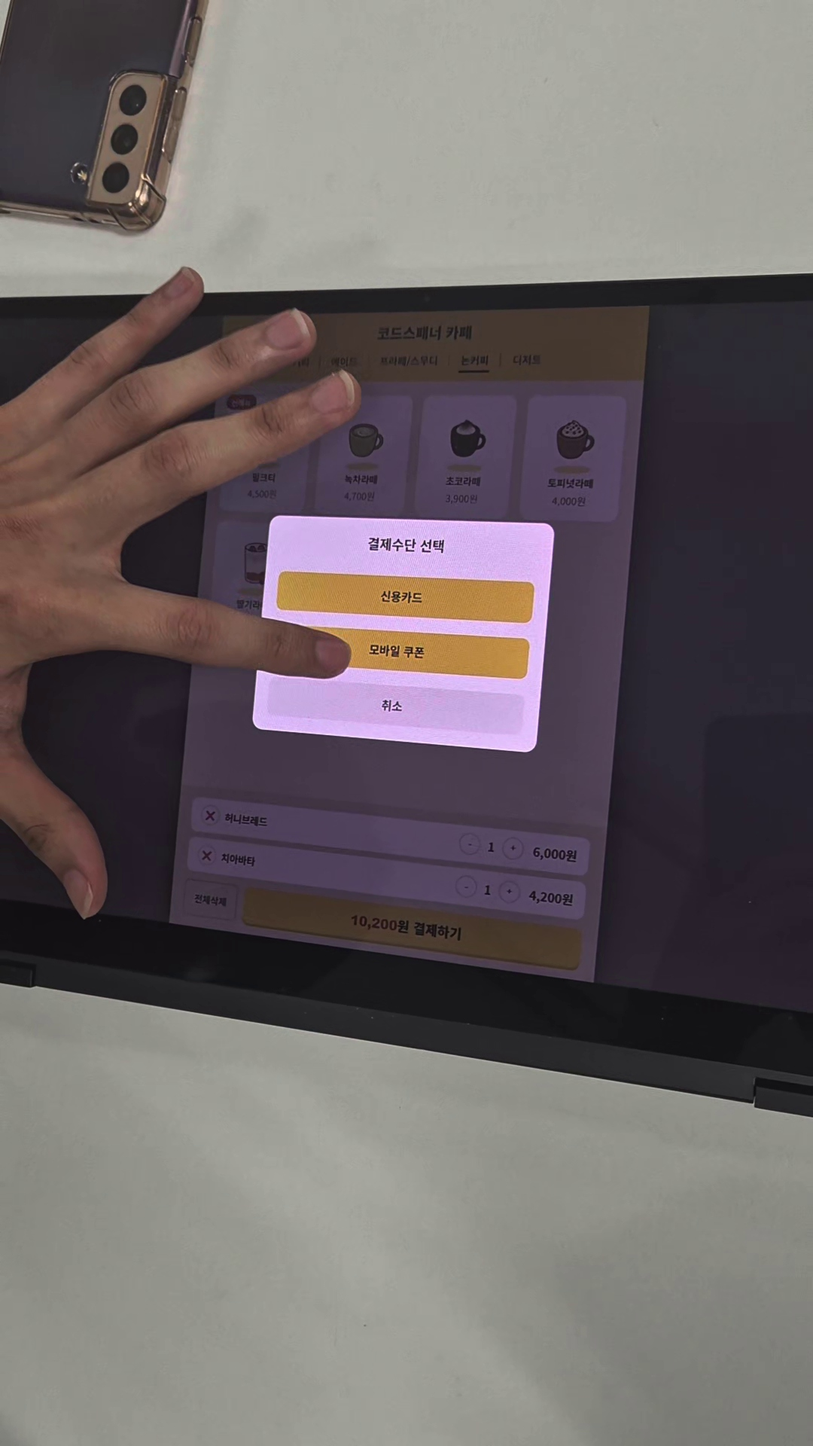action_button: (244, 885, 587, 971), (266, 676, 526, 736), (276, 571, 534, 624), (272, 626, 530, 679), (186, 879, 235, 917)
cart_item: (187, 836, 587, 918), (190, 795, 591, 875)
category_tab: (376, 354, 441, 368), (460, 354, 490, 367), (329, 355, 359, 368), (512, 353, 543, 365)
menu_back: (519, 395, 626, 521), (413, 396, 517, 522), (310, 394, 411, 518), (217, 393, 313, 513)
menu_name: (545, 477, 596, 492), (444, 475, 482, 487), (343, 474, 380, 486), (251, 473, 277, 484)
menu_price: (551, 495, 586, 508), (247, 488, 279, 501), (445, 494, 479, 506), (344, 490, 376, 502)
popup_modal: (250, 514, 556, 754)
